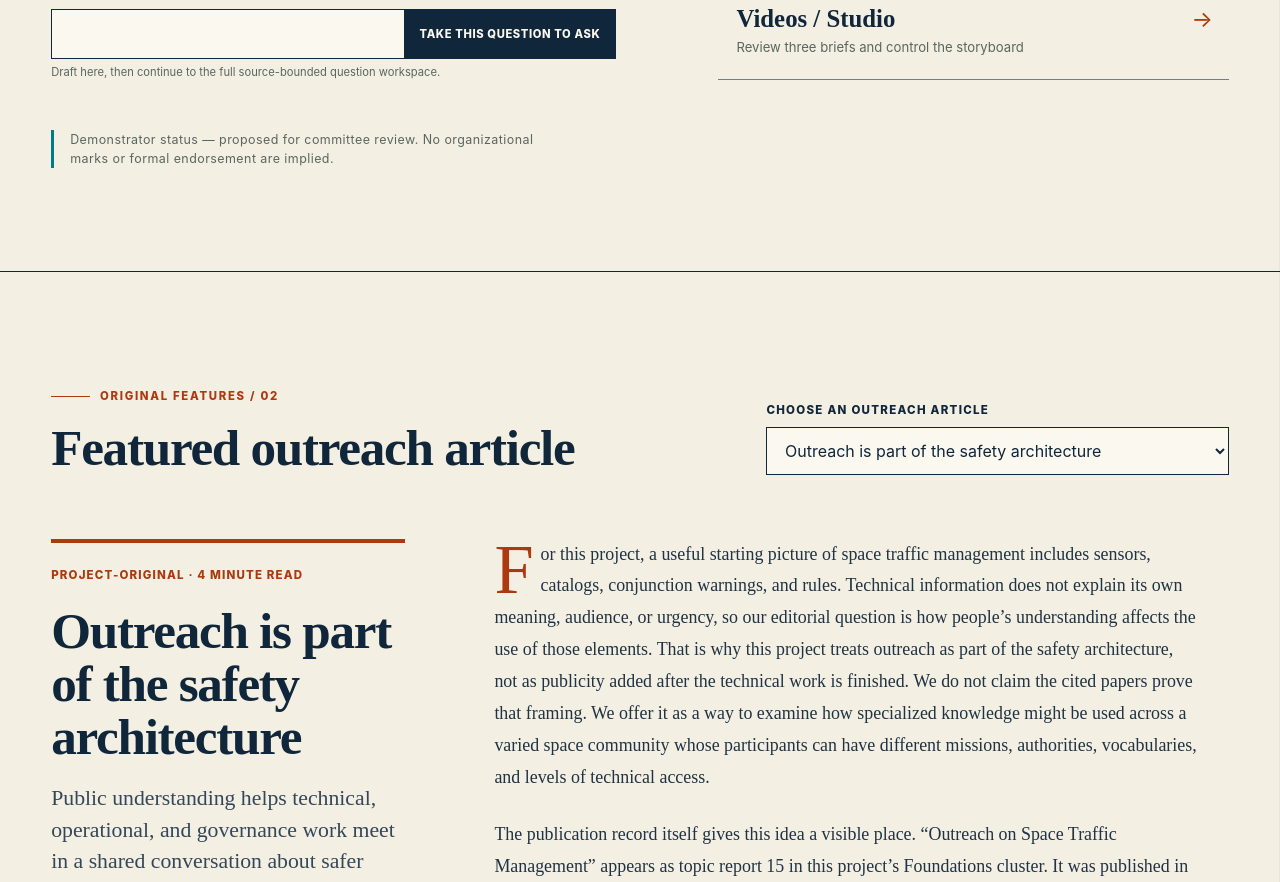
Test: editorial application › switches accessibly among all three original outreach features
(page scrolled)
Select "A shared picture is not a single database" in the dropdown labelled "Choose an outreach article" at (998, 451), box [766,427,1229,475]
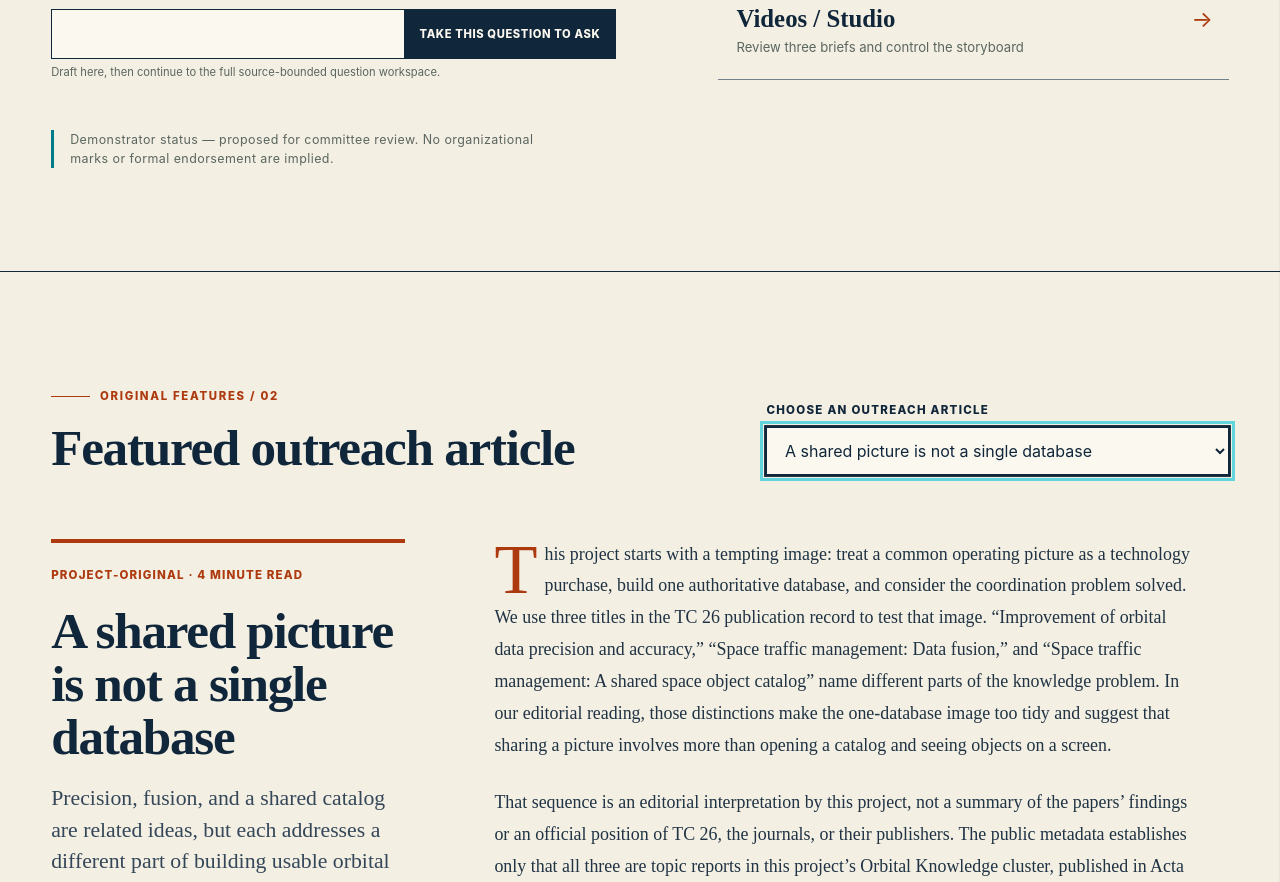
Result: the heading "A shared picture is not a single database" is shown at [51,604,405,763]
Select "The traffic conversation now extends beyond Earth orbit" in the dropdown labelled "Choose an outreach article" at (998, 451), box [766,427,1229,475]
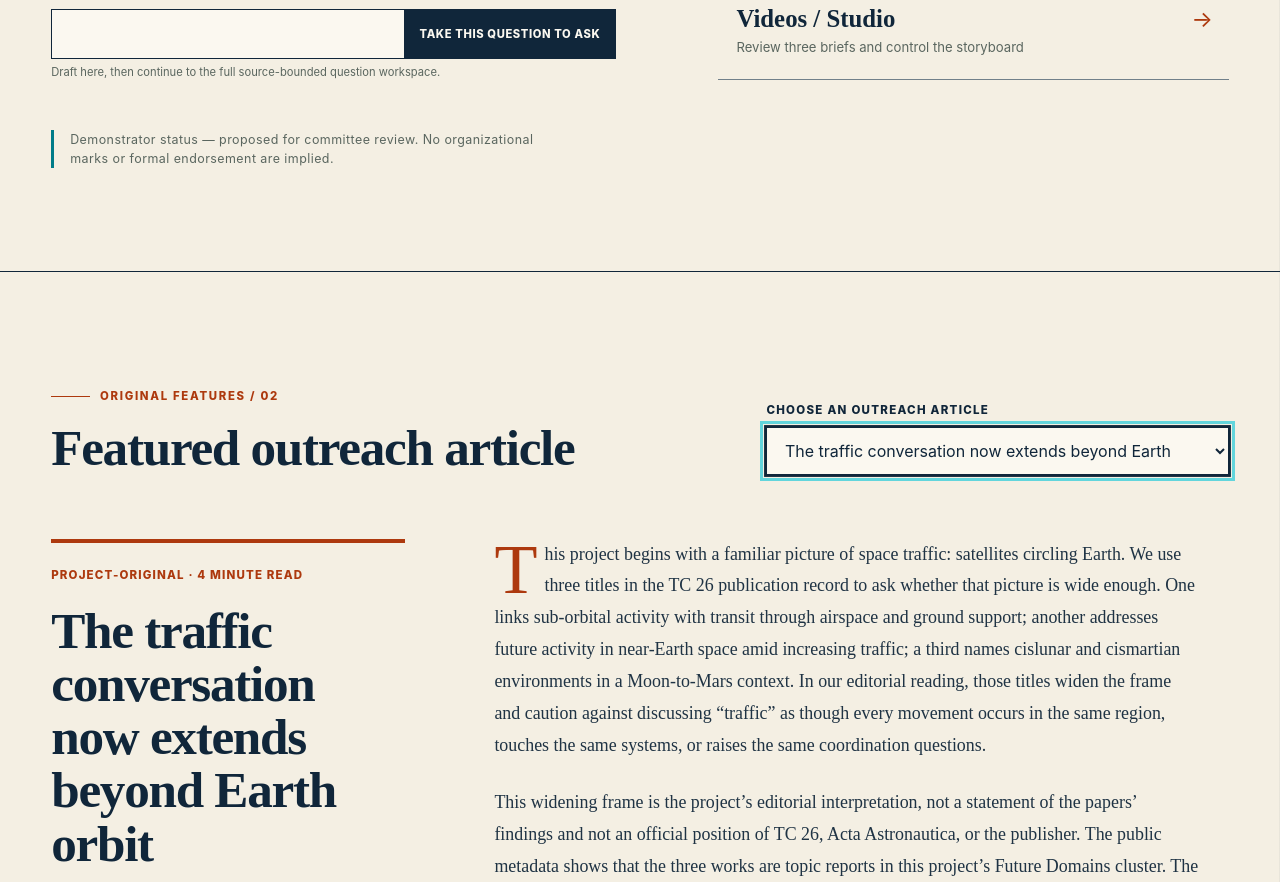
Result: the heading "The traffic conversation now extends beyond Earth orbit" is shown at [51,602,336,872]
